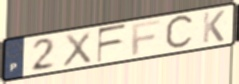2: (30, 36, 57, 73)
C: (164, 12, 197, 53)
F: (96, 22, 128, 64), (130, 18, 162, 57)
K: (201, 9, 227, 45)
X: (61, 29, 93, 69)
